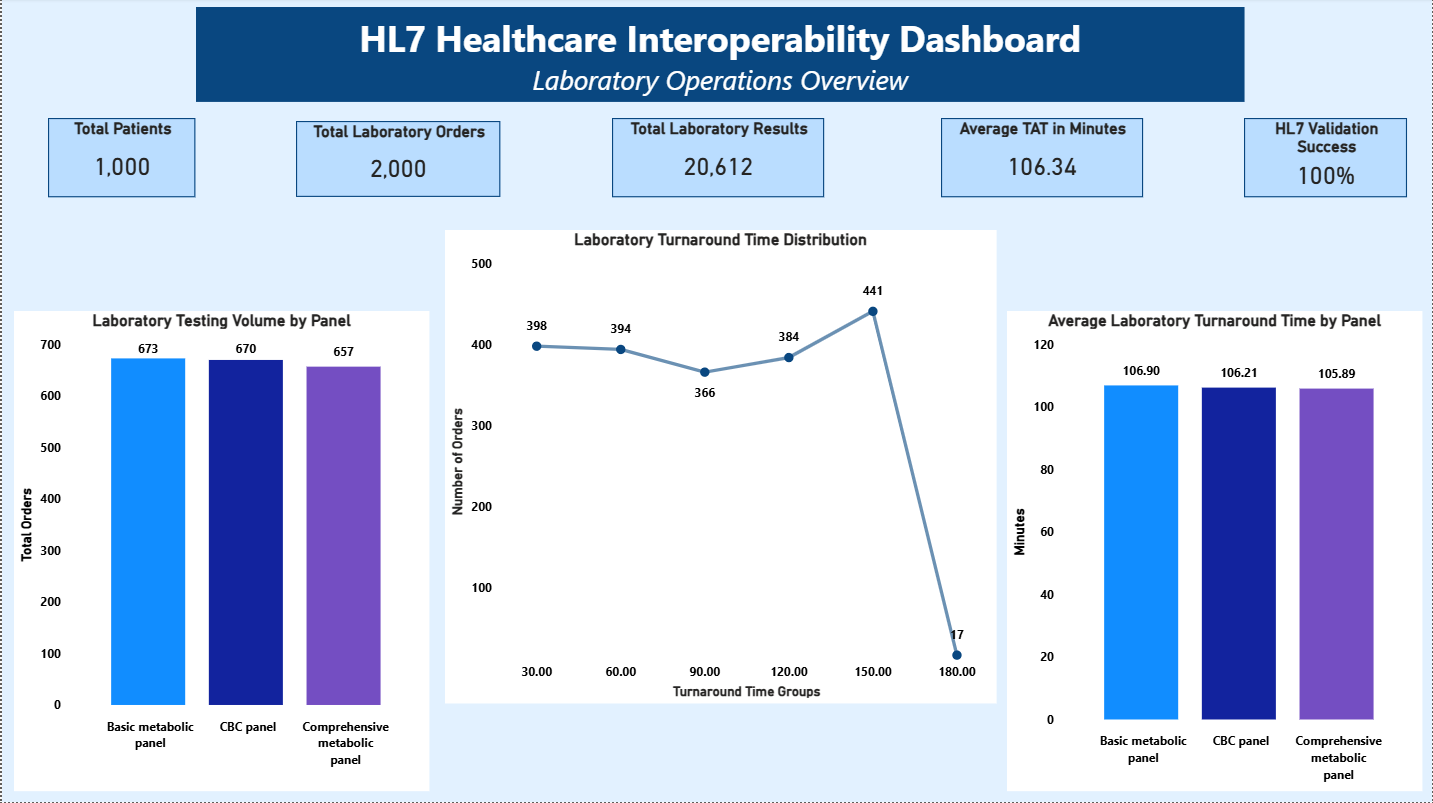

The dashboard page shown, as its layout file describes it:
{"tool":"powerbi","page":{"name":"Laboratory Operations Overview","canvas":[1280,720],"ordinal":0},"visuals":[{"type":"card","title":"Total Patients","fields":{"Values":["Count(public vw_patient_utilization.patient_id)"]},"box":[41.3,107.5,132.3,70.8],"z":0},{"type":"card","title":"Total Laboratory Orders","fields":{"Values":["Sum(public vw_panel_volume.total_orders)"]},"box":[263.3,109.8,183,68.5],"z":1000},{"type":"card","title":"Total Laboratory Results","fields":{"Values":["Sum(public vw_panel_volume.total_results)"]},"box":[546.7,107.5,190.1,70.8],"z":2000},{"type":"card","title":"Average TAT in Minutes","fields":{"Values":["Avg(public vw_turnaround_time.turnaround_minutes)"]},"box":[840.7,107.5,180.7,70.8],"z":3000},{"type":"card","title":"HL7 Validation Success ","fields":{"Values":["public vw_hl7_performance.HL7 Validation Success %"]},"box":[1112.3,107.5,146.4,70.8],"z":4000},{"type":"clusteredColumnChart","title":"Laboratory Testing Volume by Panel","fields":{"Category":["public vw_panel_volume.panel_name"],"Y":["Sum(public vw_panel_volume.total_orders)"]},"box":[10.6,279.9,372,429.8],"z":5000},{"type":"clusteredColumnChart","title":"Average Laboratory Turnaround Time by Panel","fields":{"Category":["public vw_turnaround_time.panel_name"],"Y":["Avg(public vw_turnaround_time.turnaround_minutes)"]},"box":[899.8,279.9,372,429.8],"z":6000},{"type":"lineChart","title":"Laboratory Turnaround Time Distribution","fields":{"Category":["public vw_turnaround_time.Turnaround Time Groups"],"Y":["Count(public vw_turnaround_time.message_id)"]},"box":[396.8,207.8,493.6,423.9],"z":7000},{"type":"textbox","box":[173.6,8.3,938.7,85],"z":8000}]}

Visuals, with their boxes in screenshot pixels (x1, y1, x2, y2), scaled from the page's 1280x720 canvas onto the 1433x803 screenshot:
"Total Patients" card: Rect(46, 120, 194, 199)
"Total Laboratory Orders" card: Rect(295, 122, 500, 199)
"Total Laboratory Results" card: Rect(612, 120, 825, 199)
"Average TAT in Minutes" card: Rect(941, 120, 1143, 199)
"HL7 Validation Success " card: Rect(1245, 120, 1409, 199)
"Laboratory Testing Volume by Panel" clusteredColumnChart: Rect(12, 312, 428, 792)
"Average Laboratory Turnaround Time by Panel" clusteredColumnChart: Rect(1007, 312, 1424, 792)
"Laboratory Turnaround Time Distribution" lineChart: Rect(444, 232, 997, 705)
textbox: Rect(194, 9, 1245, 104)
